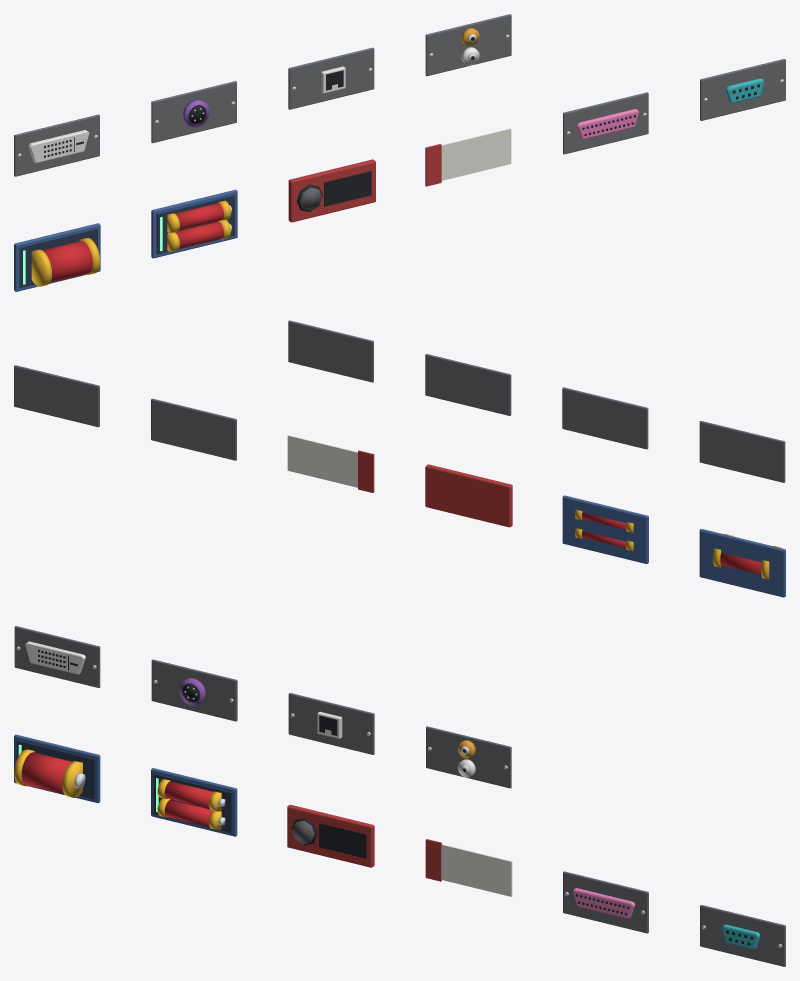
File: bomb_widgets.glb
3 views of the same model, one above another, from view 1: azimuth 30°, elevation 25°; view 2: azimuth 150°, elevation 25°; view 3: azimuth 330°, elevation 25° (orthographic).
Visible parts, largest first — view 1: battery_d, battery_aa, port_rca, port_rj45, port_parallel, port_dvi_d, port_ps2, port_serial, indicator, serial_tag; view 2: battery_d, battery_aa, indicator, port_ps2, port_dvi_d, port_rj45, port_parallel, port_rca, port_serial, serial_tag; view 3: battery_d, battery_aa, port_ps2, port_rj45, port_dvi_d, port_parallel, port_rca, port_serial, indicator, serial_tag.
Boxes of the visible parts, x1,y1,x2,y2 form: battery_d: (14,223,100,291); battery_aa: (151,189,237,258); port_rca: (425,14,511,76); port_rj45: (288,47,374,109); port_parallel: (563,92,648,154); port_dvi_d: (14,114,99,176); port_ps2: (151,81,236,143); port_serial: (700,59,785,120); indicator: (288,159,375,222); serial_tag: (425,128,511,186); battery_d: (699,529,785,597); battery_aa: (562,495,648,563); indicator: (425,464,512,527); port_ps2: (562,387,648,449); port_dvi_d: (699,421,785,482); port_rj45: (425,354,511,415); port_parallel: (151,398,236,460); port_rca: (288,320,373,382); port_serial: (14,365,99,427); serial_tag: (287,435,374,492); battery_d: (14,734,100,802); battery_aa: (151,768,237,836); port_ps2: (151,659,237,721); port_rj45: (288,693,374,754); port_dvi_d: (14,626,100,687); port_parallel: (563,871,648,933); port_rca: (426,726,511,788); port_serial: (700,905,785,966); indicator: (287,804,374,867); serial_tag: (425,839,512,896).
Size of the model in its own units: 5.06 by 0.98 by 0.2071.
